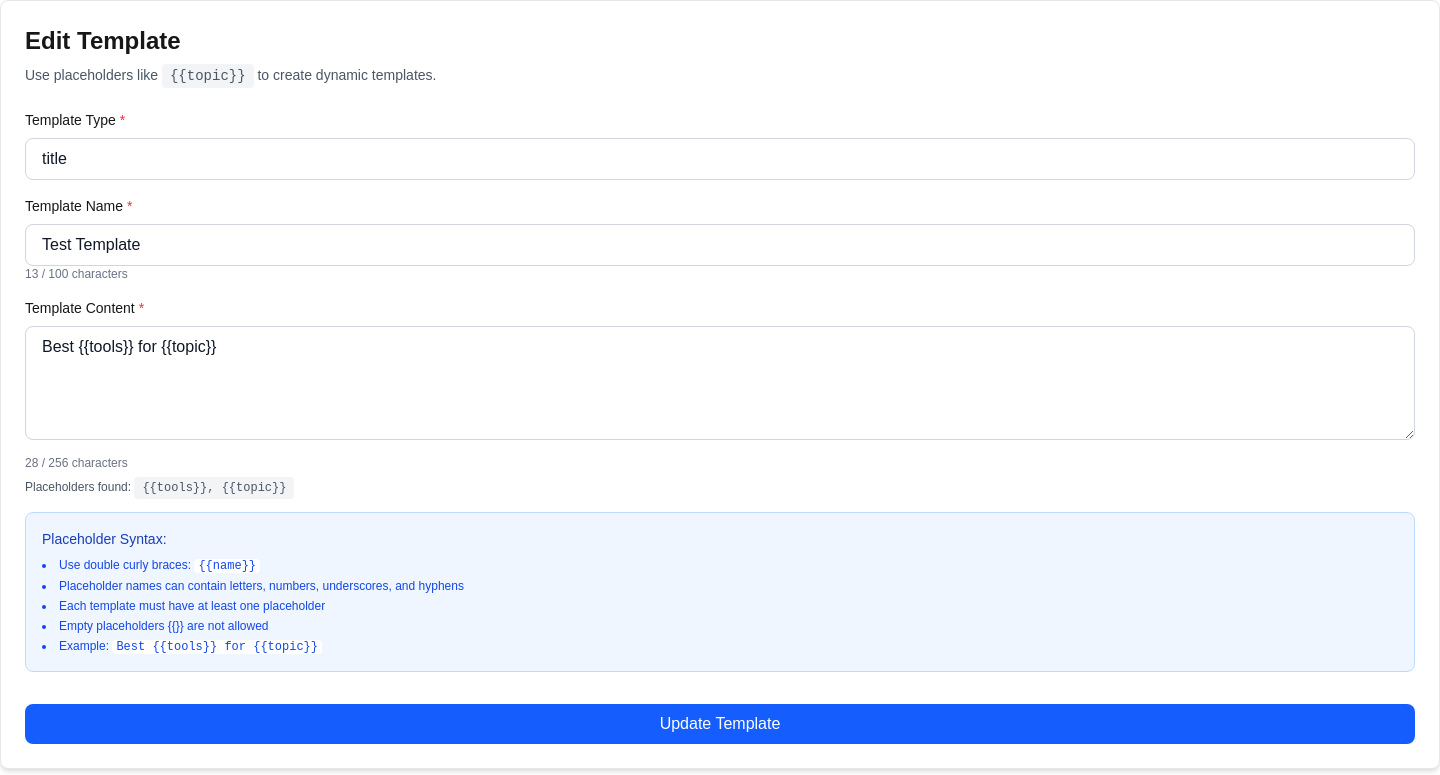
Test: TemplateForm › Form Submission - Create Mode › should handle 409 duplicate content error
Click the button "Update Template" at (720, 724), box [25,704,1415,744]
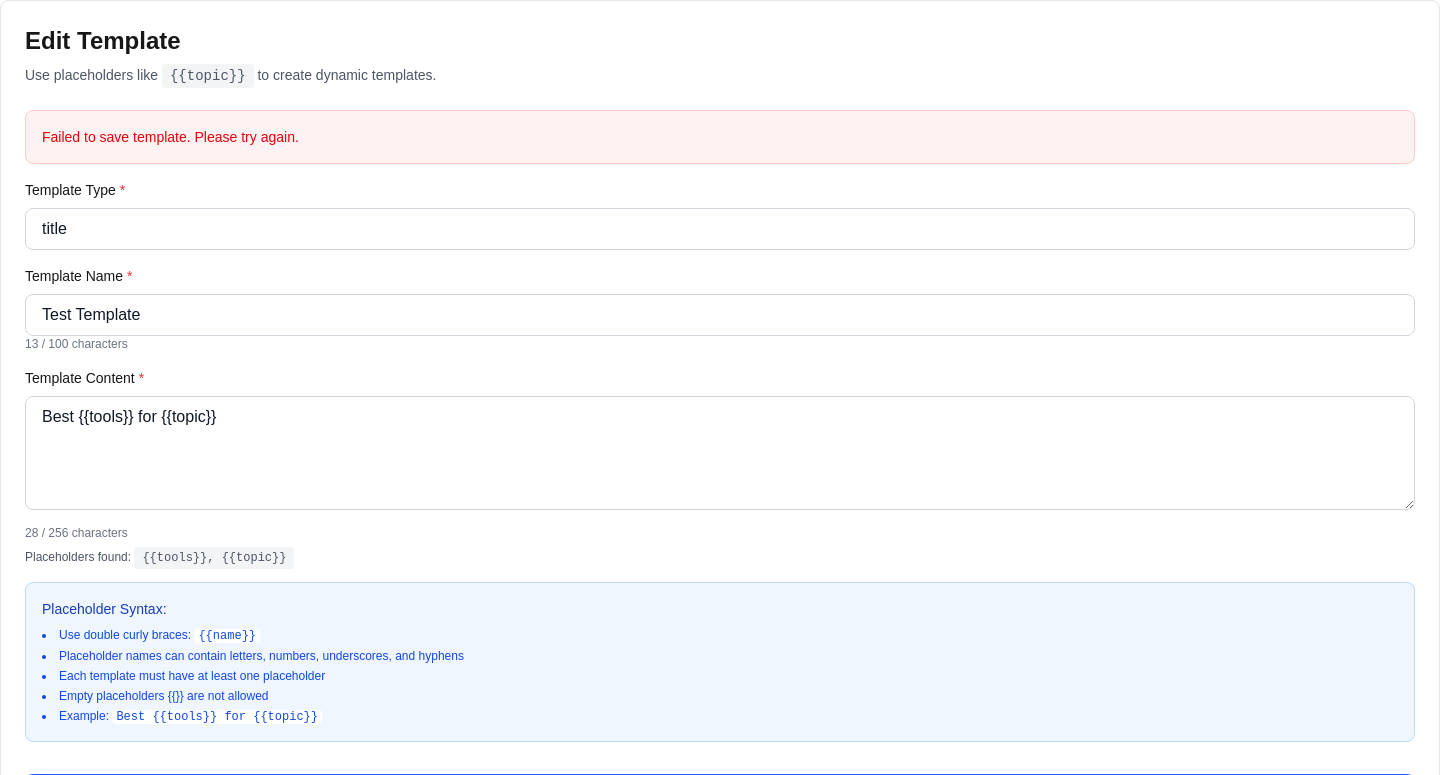
Expected: the message "Failed to save template. Please try again." is shown, [25,110,1415,164]
